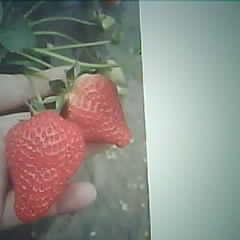straw-ripe: (5, 113, 85, 222), (61, 75, 131, 145)
